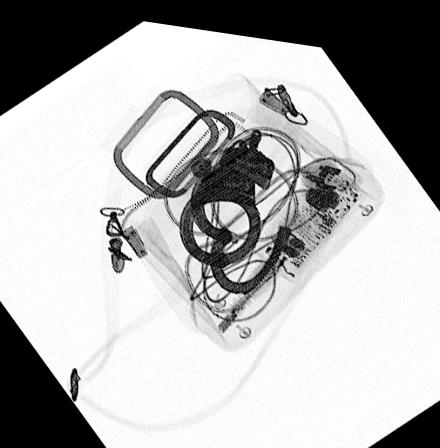HandCuffs: (174, 118, 293, 288)
